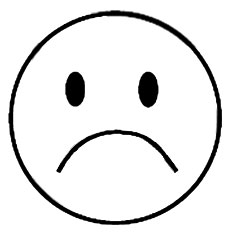triste: (48, 59, 185, 183)
